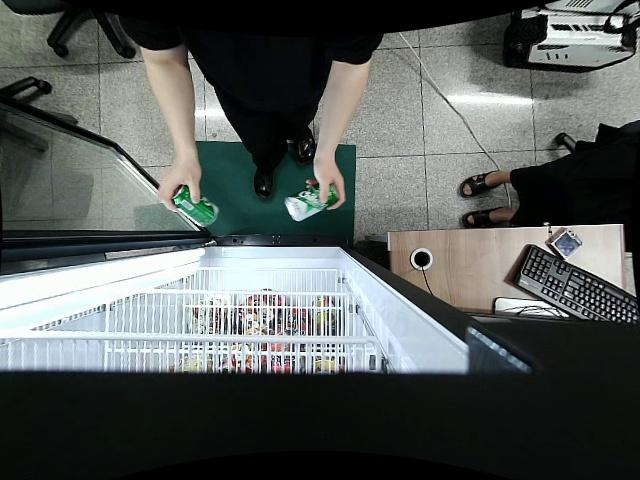00_hand: (156, 152, 205, 212), (305, 150, 347, 212)
12_chilsungCider: (169, 184, 220, 229), (286, 183, 339, 222)
